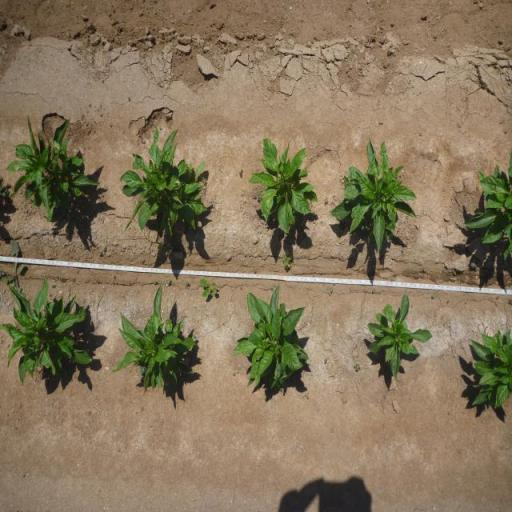plant: (118, 127, 211, 241), (327, 136, 417, 252), (9, 112, 102, 222), (2, 285, 96, 386), (112, 285, 196, 395), (231, 282, 311, 396), (247, 136, 319, 236), (365, 294, 432, 384), (460, 152, 512, 264), (466, 327, 512, 410)
weed: (0, 236, 30, 286), (199, 278, 219, 299), (158, 242, 172, 256), (282, 254, 294, 270), (353, 362, 361, 372), (238, 167, 244, 179), (256, 192, 262, 202), (322, 196, 328, 204), (166, 276, 170, 286), (323, 359, 328, 365), (432, 292, 436, 299), (201, 177, 206, 182), (372, 288, 376, 294)
